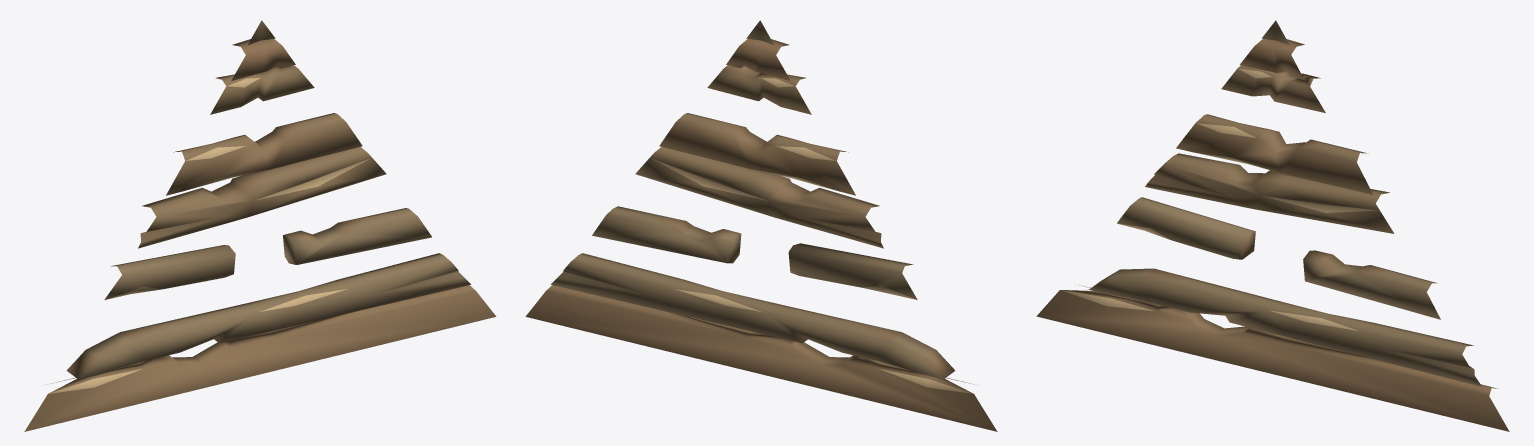
File: rpgpp_av_roof_end_01_6x5_wall_window_01b.gltf
3 renders of one model, left to right at view 1: azimuth 30°, elevation 25°; view 2: azimuth 150°, elevation 25°; view 3: azimuth 330°, elevation 25°, orthographic.
Parts seen in each view (by area): view 1: rpgpp_av_roof_end_01_6x5_wall_window_01b; view 2: rpgpp_av_roof_end_01_6x5_wall_window_01b; view 3: rpgpp_av_roof_end_01_6x5_wall_window_01b.
Part boxes in pixels (left/top/right/bottom): rpgpp_av_roof_end_01_6x5_wall_window_01b: left=24, top=20, right=496, bottom=431; rpgpp_av_roof_end_01_6x5_wall_window_01b: left=525, top=20, right=997, bottom=431; rpgpp_av_roof_end_01_6x5_wall_window_01b: left=1036, top=20, right=1509, bottom=431.
Bounding box in the file's own units: 0.068 × 0.0486 × 0.00374.
1 material, 1 textured.
